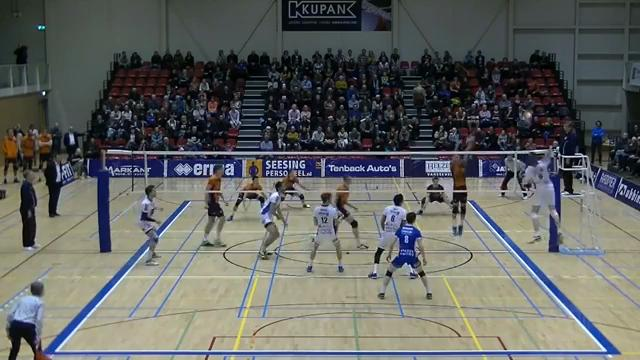Attack: (515, 141, 567, 249)
Block: (446, 136, 477, 238)
Player: (378, 212, 431, 299), (368, 194, 406, 278), (306, 193, 343, 272), (336, 176, 367, 248), (259, 181, 285, 259), (201, 165, 225, 246), (227, 176, 265, 220), (140, 185, 160, 265), (417, 177, 450, 214), (282, 169, 309, 207)
ball: (525, 113, 531, 121)
